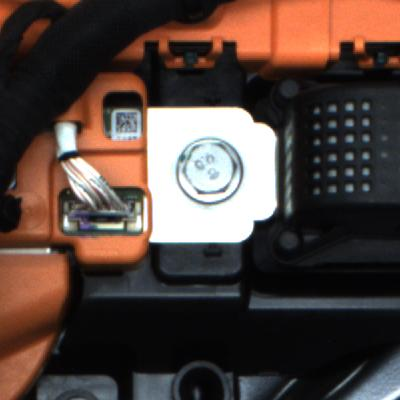nut_b: (175, 130, 257, 214)
